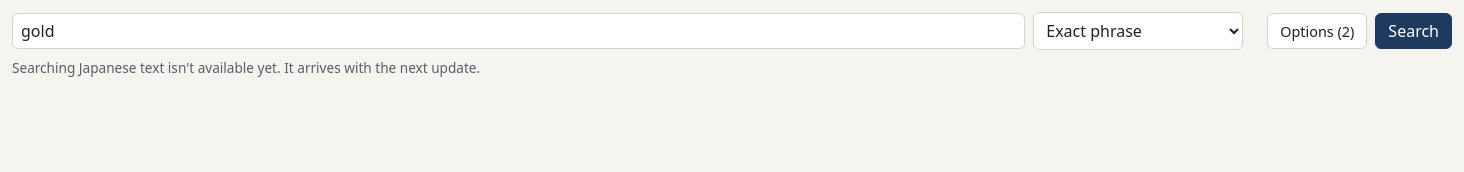
Test: SearchBar's options count (#229) › leaves out the filters a Congress search hides
The image size is (1464, 172).
Click the button "Options (2)" at coordinates (1317, 31), box [1267,13,1367,49]
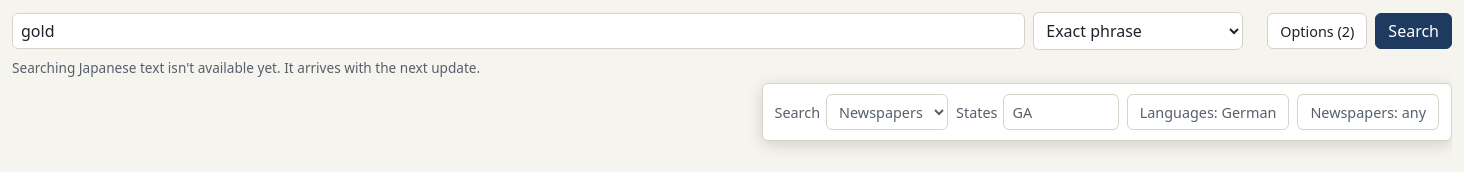
Select "Congress" in the dropdown labelled "Search" at coordinates (887, 112), box [826,94,948,130]
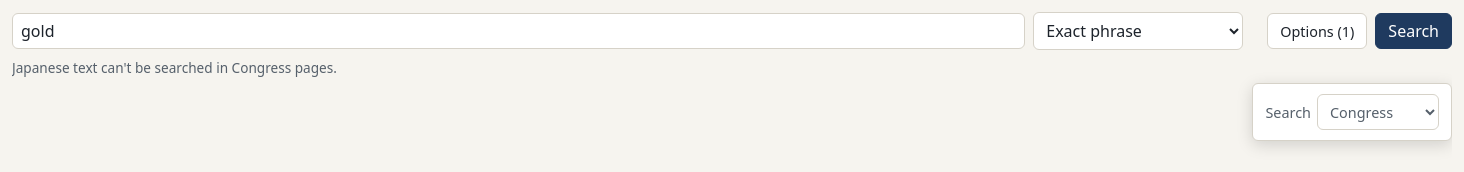
expect the button "Options (1)" is shown: met, box [1267,13,1367,49]
